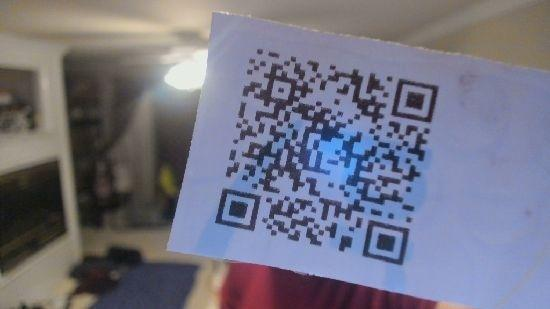qr_code: (215, 48, 439, 266)
